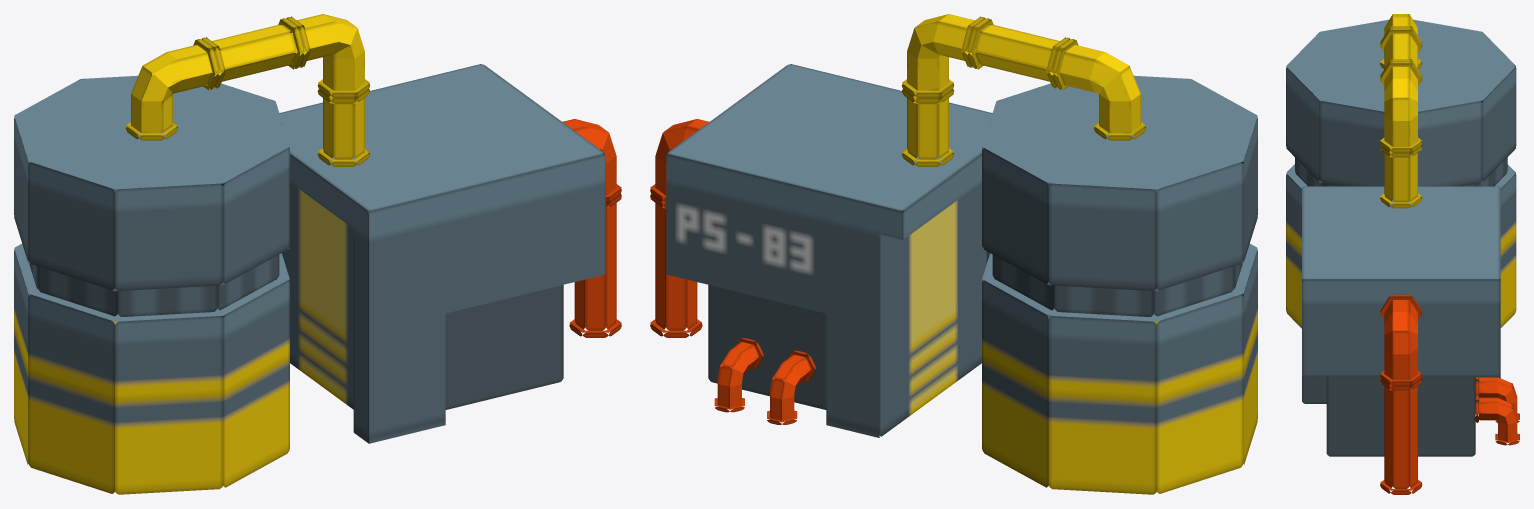
Rendered from Pressure_Machine.fbx.
The picture shows the model from 3 angles, left to right: view 1: azimuth 30°, elevation 25°; view 2: azimuth 150°, elevation 25°; view 3: azimuth 270°, elevation 25°; orthographic projection. The views are drawn at different scales.
Parts seen in each view (by area): view 1: Cylinder.001; view 2: Cylinder.001; view 3: Cylinder.001.
Boxes of the visible parts, x1=… form: Cylinder.001: x1=14, y1=14, x2=621, y2=494; Cylinder.001: x1=650, y1=14, x2=1257, y2=494; Cylinder.001: x1=1286, y1=14, x2=1519, y2=494.
Size of the model in its own units: 550 by 340 by 235.
Materials: 1 (1 with a texture image).
